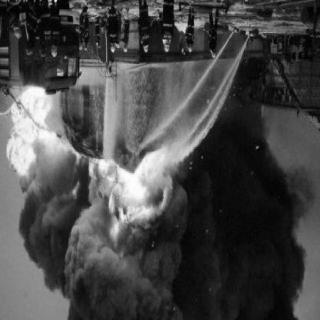Fire: (92, 142, 168, 229), (6, 89, 82, 165)
Smoke: (28, 146, 305, 320)
